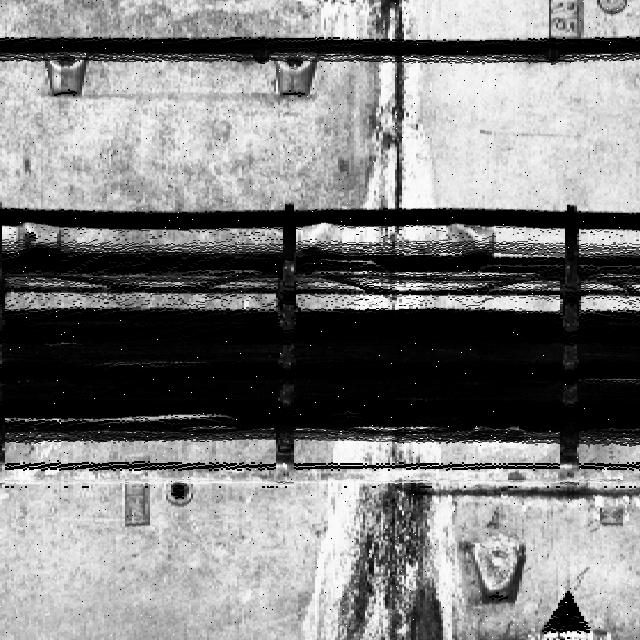leakage: (296, 425, 469, 639), (344, 3, 448, 258)
